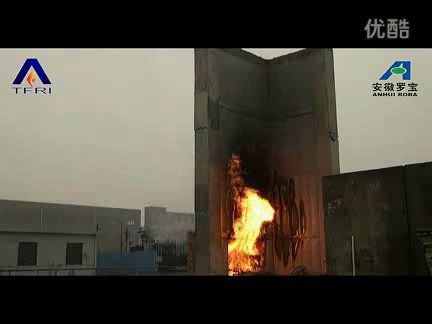fire: (223, 160, 276, 274)
